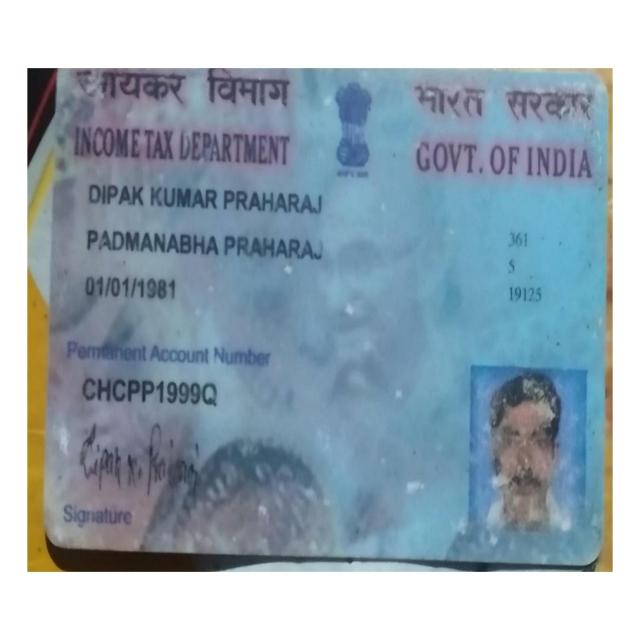pan_card: (51, 71, 605, 560)
